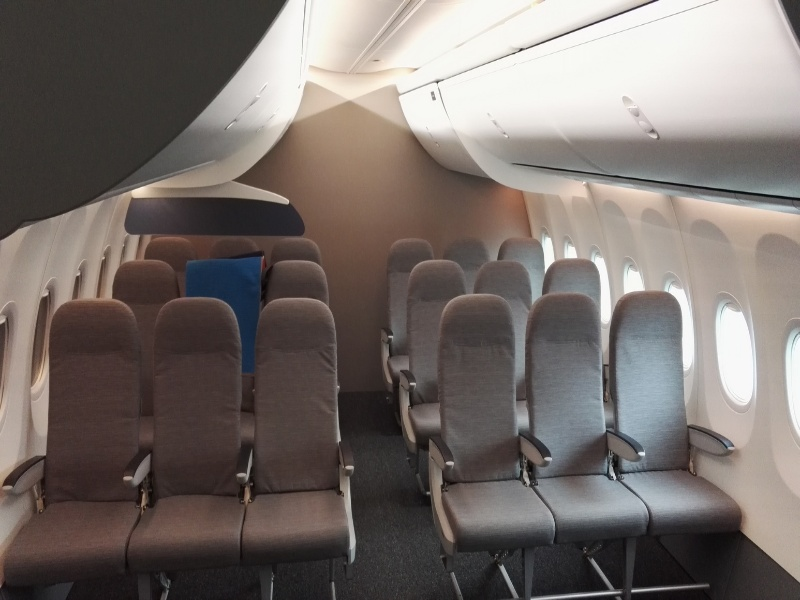close_bin: (439, 8, 800, 193), (57, 4, 315, 201), (392, 81, 489, 198)
